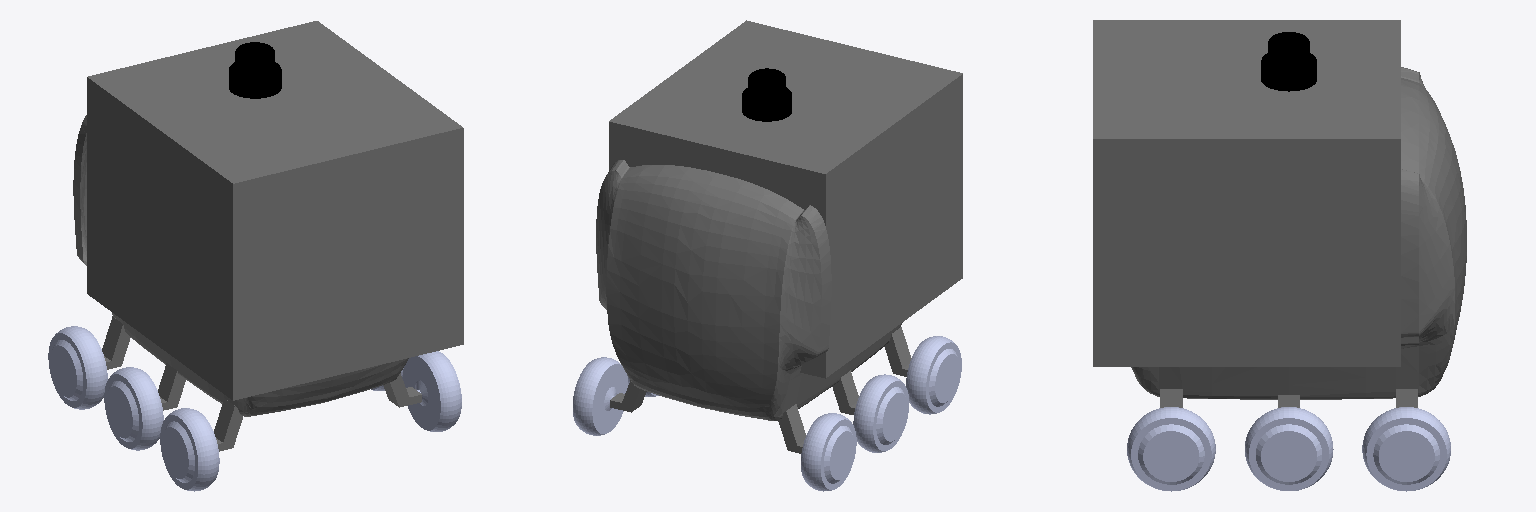
robot.urdf — robot_006:
<?xml version="1.0" ?>
<!-- =================================================================================== -->
<!-- |    This document was autogenerated by xacro from robot_006.xacro                | -->
<!-- |    EDITING THIS FILE BY HAND IS NOT RECOMMENDED                                 | -->
<!-- =================================================================================== -->
<!-- This URDF was automatically created by SolidWorks to URDF Exporter! Originally created by [author] ([email redacted]) 
     Commit Version: 1.6.0-4-g7f85cfe  Build Version: 1.6.7995.38578
     For more information, please see http://wiki.ros.org/sw_urdf_exporter -->
<robot name="robot_006">
  <gazebo>
    <plugin filename="libgazebo_ros_control.so" name="gazebo_ros_control">
      <robotNamespace>robot_006</robotNamespace>
      <robotSimType>gazebo_ros_control/DefaultRobotHWSim</robotSimType>
    </plugin>
  </gazebo>
  <!-- hokuyo -->
  <gazebo reference="lidar_link">
    <sensor name="head_lidar_sensor" type="ray">
      <pose>0 0 0 0 0 0</pose>
      <visualize>true</visualize>
      <update_rate>40</update_rate>
      <ray>
        <scan>
          <horizontal>
            <samples>720</samples>
            <resolution>1</resolution>
            <min_angle>-3.14</min_angle>
            <max_angle>3.14</max_angle>
          </horizontal>
        </scan>
        <range>
          <min>0.10</min>
          <max>30.0</max>
          <resolution>0.01</resolution>
        </range>
        <noise>
          <type>gaussian</type>
          <!-- Noise parameters based on published spec for Hokuyo laser
               achieving "+-30mm" accuracy at range < 10m.  A mean of 0.0m and
               stddev of 0.01m will put 99.7% of samples within 0.03m of the true
               reading. -->
          <mean>0.0</mean>
          <stddev>0.01</stddev>
        </noise>
      </ray>
      <plugin filename="libgazebo_ros_laser.so" name="gazebo_ros_head_lidar_controller">
        <topicName>/robot_006/laser/scan</topicName>
        <frameName>lidar_link</frameName>
      </plugin>
    </sensor>
  </gazebo>
  <gazebo reference="base_link">
    <material>Gazebo/Blue</material>
  </gazebo>
  <gazebo reference="lidar_link">
    <material>Gazebo/Black</material>
  </gazebo>
  <gazebo reference="Left_wheel_03_link">
    <material>Gazebo/Black</material>
  </gazebo>
  <gazebo reference="Right_wheel_03_link">
    <material>Gazebo/Black</material>
  </gazebo>
  <gazebo>
    <plugin filename="libgazebo_ros_skid_steer_drive.so" name="skid_steer_drive">
      <updateRate>500</updateRate>
      <leftFrontJoint>Left_wheel_03_link</leftFrontJoint>
      <rightFrontJoint>Right_wheel_03_link</rightFrontJoint>
      <leftRearJoint>Left_wheel_01_link</leftRearJoint>
      <rightRearJoint>Right_wheel_01_link</rightRearJoint>
      <wheelSeparation>1.25</wheelSeparation>
      <wheelDiameter>0.3</wheelDiameter>
      <torque>20</torque>
      <commandTopic>cmd_demo</commandTopic>
      <odometryTopic>odom_demo</odometryTopic>
      <odometryFrame>odom_demo</odometryFrame>
      <broadcastTF>true</broadcastTF>
    </plugin>
  </gazebo>
  <link name="base_link">
    <inertial>
      <origin rpy="0 0 0" xyz="0.0028535 0.34369 0.067012"/>
      <mass value="6.3834"/>
      <inertia ixx="0.34574" ixy="2.7545E-05" ixz="4.4178E-16" iyy="0.37646" iyz="6.8636E-16" izz="0.30569"/>
    </inertial>
    <visual>
      <origin rpy="0 0 0" xyz="0 0 0"/>
      <geometry>
        <mesh filename="package://robot_006/robot_006_description/meshes/base_link.STL"/>
      </geometry>
      <material name="black">
        <color rgba="0.49804 0.49804 0.49804 1"/>
        <texture filename="package://robot_006/robot_006_description/textures/black.jpg"/>
      </material>
    </visual>
    <collision>
      <origin rpy="0 0 0" xyz="0 0 0"/>
      <geometry>
        <mesh filename="package://robot_006/robot_006_description/meshes/base_link.STL"/>
      </geometry>
    </collision>
  </link>
  <link name="left_wheel_01_link">
    <inertial>
      <origin rpy="0 0 0" xyz="0.0810455771702411 -8.67361737988404E-18 0"/>
      <mass value="7.38632836745033"/>
      <inertia ixx="0.0208460115156416" ixy="-7.30031821441943E-19" ixz="1.40926829579469E-18" iyy="0.0121153656310422" iyz="-7.58941520739853E-19" izz="0.0121153656310422"/>
    </inertial>
    <visual>
      <origin rpy="0 0 0" xyz="0 0 0"/>
      <geometry>
        <mesh filename="package://robot_006/robot_006_description/meshes/left_wheel_01_link.STL"/>
      </geometry>
      <material name="">
        <color rgba="0.792156862745098 0.819607843137255 0.933333333333333 1"/>
      </material>
    </visual>
    <collision>
      <origin rpy="0 0 0" xyz="0 0 0"/>
      <geometry>
        <mesh filename="package://robot_006/robot_006_description/meshes/left_wheel_01_link.STL"/>
      </geometry>
    </collision>
  </link>
  <joint name="Left_wheel_01_link" type="continuous">
    <origin rpy="1.6176 0 3.1416" xyz="-0.18382 0.21 0"/>
    <parent link="base_link"/>
    <child link="left_wheel_01_link"/>
    <axis xyz="1 0 0"/>
  </joint>
  <link name="left_wheel_02_link">
    <inertial>
      <origin rpy="0 0 0" xyz="0.0810455771702411 2.87112417300684E-19 1.17130577147236E-17"/>
      <mass value="7.38632836745033"/>
      <inertia ixx="0.0208460115156416" ixy="-5.32200053630169E-19" ixz="1.69064860125389E-18" iyy="0.0121153656310422" iyz="2.16840434497101E-18" izz="0.0121153656310422"/>
    </inertial>
    <visual>
      <origin rpy="0 0 0" xyz="0 0 0"/>
      <geometry>
        <mesh filename="package://robot_006/robot_006_description/meshes/left_wheel_02_link.STL"/>
      </geometry>
      <material name="">
        <color rgba="0.792156862745098 0.819607843137255 0.933333333333333 1"/>
      </material>
    </visual>
    <collision>
      <origin rpy="0 0 0" xyz="0 0 0"/>
      <geometry>
        <mesh filename="package://robot_006/robot_006_description/meshes/left_wheel_02_link.STL"/>
      </geometry>
    </collision>
  </link>
  <joint name="Left_wheel_02_link" type="continuous">
    <origin rpy="2.4353 0 -3.1416" xyz="-0.18382 0 0"/>
    <parent link="base_link"/>
    <child link="left_wheel_02_link"/>
    <axis xyz="1 0 0"/>
  </joint>
  <link name="left_wheel_03_link">
    <inertial>
      <origin rpy="0 0 0" xyz="0.0810455771702411 0 -5.55111512312578E-17"/>
      <mass value="7.38632836745033"/>
      <inertia ixx="0.0208460115156416" ixy="1.42504187367709E-19" ixz="-2.9721660450084E-19" iyy="0.0121153656310422" iyz="0" izz="0.0121153656310422"/>
    </inertial>
    <visual>
      <origin rpy="0 0 0" xyz="0 0 0"/>
      <geometry>
        <mesh filename="package://robot_006/robot_006_description/meshes/left_wheel_03_link.STL"/>
      </geometry>
      <material name="">
        <color rgba="0.792156862745098 0.819607843137255 0.933333333333333 1"/>
      </material>
    </visual>
    <collision>
      <origin rpy="0 0 0" xyz="0 0 0"/>
      <geometry>
        <mesh filename="package://robot_006/robot_006_description/meshes/left_wheel_03_link.STL"/>
      </geometry>
    </collision>
  </link>
  <joint name="Left_wheel_03_link" type="continuous">
    <origin rpy="1.6982 0 3.1416" xyz="-0.18382 -0.21 0"/>
    <parent link="base_link"/>
    <child link="left_wheel_03_link"/>
    <axis xyz="1 0 0"/>
  </joint>
  <link name="right_wheel_01_link">
    <inertial>
      <origin rpy="0 0 0" xyz="0.0810455771702411 -1.33465102787837E-18 0"/>
      <mass value="7.38632836745033"/>
      <inertia ixx="0.0208460115156416" ixy="4.04941442896144E-19" ixz="5.05940785059499E-19" iyy="0.0121153656310422" iyz="-1.3156256345534E-18" izz="0.0121153656310422"/>
    </inertial>
    <visual>
      <origin rpy="0 0 0" xyz="0 0 0"/>
      <geometry>
        <mesh filename="package://robot_006/robot_006_description/meshes/right_wheel_01_link.STL"/>
      </geometry>
      <material name="">
        <color rgba="0.792156862745098 0.819607843137255 0.933333333333333 1"/>
      </material>
    </visual>
    <collision>
      <origin rpy="0 0 0" xyz="0 0 0"/>
      <geometry>
        <mesh filename="package://robot_006/robot_006_description/meshes/right_wheel_01_link.STL"/>
      </geometry>
    </collision>
  </link>
  <joint name="Right_wheel_01_link" type="continuous">
    <origin rpy="1.5708 0 0" xyz="0.18382 0.21 0"/>
    <parent link="base_link"/>
    <child link="right_wheel_01_link"/>
    <axis xyz="1 0 0"/>
  </joint>
  <link name="right_wheel_02_link">
    <inertial>
      <origin rpy="0 0 0" xyz="0.081045577170241 -1.33465102787837E-18 2.94364146830802E-19"/>
      <mass value="7.38632836745033"/>
      <inertia ixx="0.0208460115156416" ixy="4.04941442896144E-19" ixz="5.05940785059499E-19" iyy="0.0121153656310422" iyz="-1.3156256345534E-18" izz="0.0121153656310422"/>
    </inertial>
    <visual>
      <origin rpy="0 0 0" xyz="0 0 0"/>
      <geometry>
        <mesh filename="package://robot_006/robot_006_description/meshes/right_wheel_02_link.STL"/>
      </geometry>
      <material name="">
        <color rgba="0.792156862745098 0.819607843137255 0.933333333333333 1"/>
      </material>
    </visual>
    <collision>
      <origin rpy="0 0 0" xyz="0 0 0"/>
      <geometry>
        <mesh filename="package://robot_006/robot_006_description/meshes/right_wheel_02_link.STL"/>
      </geometry>
    </collision>
  </link>
  <joint name="Right_wheel_02_link" type="continuous">
    <origin rpy="1.5708 0 0" xyz="0.18382 0 0"/>
    <parent link="base_link"/>
    <child link="right_wheel_02_link"/>
    <axis xyz="1 0 0"/>
  </joint>
  <link name="right_wheel_03_link">
    <inertial>
      <origin rpy="0 0 0" xyz="0.0810455771702411 -2.77555756156289E-17 5.55111512312578E-17"/>
      <mass value="7.38632836745033"/>
      <inertia ixx="0.0208460115156416" ixy="2.044350574312E-19" ixz="-1.00448384628692E-18" iyy="0.0121153656310422" iyz="2.60208521396521E-18" izz="0.0121153656310422"/>
    </inertial>
    <visual>
      <origin rpy="0 0 0" xyz="0 0 0"/>
      <geometry>
        <mesh filename="package://robot_006/robot_006_description/meshes/right_wheel_03_link.STL"/>
      </geometry>
      <material name="">
        <color rgba="0.792156862745098 0.819607843137255 0.933333333333333 1"/>
      </material>
    </visual>
    <collision>
      <origin rpy="0 0 0" xyz="0 0 0"/>
      <geometry>
        <mesh filename="package://robot_006/robot_006_description/meshes/right_wheel_03_link.STL"/>
      </geometry>
    </collision>
  </link>
  <joint name="Right_wheel_03_link" type="continuous">
    <origin rpy="1.3303 0 0" xyz="0.18382 -0.21 0"/>
    <parent link="base_link"/>
    <child link="right_wheel_03_link"/>
    <axis xyz="1 0 0"/>
  </joint>
  <link name="lidar_link">
    <inertial>
      <origin rpy="0 0 0" xyz="5.13755296872079E-17 -1.20842733323598E-17 -0.639080780507335"/>
      <mass value="0.491430460551325"/>
      <inertia ixx="0.000499328268367785" ixy="-1.20370621524202E-35" ixz="-1.59325678180355E-20" iyy="0.000499328268367785" iyz="-2.69786365718604E-36" izz="0.000517286112813611"/>
    </inertial>
    <visual>
      <origin rpy="0 0 0" xyz="0 0 0"/>
      <geometry>
        <mesh filename="package://robot_006/robot_006_description/meshes/lidar_link.STL"/>
      </geometry>
      <material name="">
        <color rgba="0 0 0 1"/>
      </material>
    </visual>
    <collision>
      <origin rpy="0 0 0" xyz="0 0 0"/>
      <geometry>
        <mesh filename="package://robot_006/robot_006_description/meshes/lidar_link.STL"/>
      </geometry>
    </collision>
  </link>
  <joint name="Lidar_link" type="fixed">
    <origin rpy="3.1416 0 1.5708" xyz="0 0 0"/>
    <parent link="base_link"/>
    <child link="lidar_link"/>
    <axis xyz="0 0 1"/>
  </joint>
  <!--
    <transmission name="tran1">
    <type>transmission_interface/SimpleTransmission</type>
    <joint name="Right_wheel_03_link">
      <hardwareInterface>EffortJointInterface</hardwareInterface>
    </joint>
    <actuator name="motor1">
      <hardwareInterface>EffortJointInterface</hardwareInterface>
      <mechanicalReduction>1</mechanicalReduction>
    </actuator>
  </transmission>
  <transmission name="tran2">
    <type>transmission_interface/SimpleTransmission</type>
    <joint name="Right_wheel_01_link">
      <hardwareInterface>EffortJointInterface</hardwareInterface>
    </joint>
    <actuator name="motor2">
      <hardwareInterface>EffortJointInterface</hardwareInterface>
      <mechanicalReduction>1</mechanicalReduction>
    </actuator>
  </transmission>  
  <transmission name="tran3">
    <type>transmission_interface/SimpleTransmission</type>
    <joint name="Left_wheel_03_link">
      <hardwareInterface>EffortJointInterface</hardwareInterface>
    </joint>
    <actuator name="motor3">
      <hardwareInterface>EffortJointInterface</hardwareInterface>
      <mechanicalReduction>1</mechanicalReduction>
    </actuator>
  </transmission>
  <transmission name="tran4">
    <type>transmission_interface/SimpleTransmission</type>
    <joint name="Left_wheel_01_link">
      <hardwareInterface>EffortJointInterface</hardwareInterface>
    </joint>
    <actuator name="motor4">
      <hardwareInterface>EffortJointInterface</hardwareInterface>
      <mechanicalReduction>1</mechanicalReduction>
    </actuator>
  </transmission>
  -->
</robot>

--- Render facts (derived) ---
The picture shows the robot from 3 angles, left to right: view 1: azimuth 30°, elevation 25°; view 2: azimuth 150°, elevation 25°; view 3: azimuth 270°, elevation 25°; orthographic projection.
Robot: robot_006 — 8 links, 7 joints (6 continuous, 1 fixed); root link base_link; default pose: every joint at zero.
Visible links, largest first — view 1: base_link, left_wheel_03_link, left_wheel_02_link, left_wheel_01_link, right_wheel_03_link, lidar_link; view 2: base_link, left_wheel_01_link, left_wheel_03_link, left_wheel_02_link, right_wheel_01_link, lidar_link; view 3: base_link, right_wheel_01_link, right_wheel_03_link, right_wheel_02_link, lidar_link.
Boxes of the visible links, x1,y1,x2,y2 form: base_link: [73, 21, 463, 451]; left_wheel_03_link: [160, 408, 219, 491]; left_wheel_02_link: [104, 367, 163, 450]; left_wheel_01_link: [48, 326, 107, 409]; right_wheel_03_link: [403, 351, 461, 431]; lidar_link: [229, 42, 281, 98]; base_link: [596, 20, 962, 453]; left_wheel_01_link: [801, 413, 856, 491]; left_wheel_03_link: [906, 336, 961, 414]; left_wheel_02_link: [853, 374, 908, 452]; right_wheel_01_link: [573, 357, 627, 435]; lidar_link: [742, 68, 791, 121]; base_link: [1093, 20, 1466, 407]; right_wheel_01_link: [1362, 407, 1450, 491]; right_wheel_03_link: [1127, 407, 1215, 491]; right_wheel_02_link: [1245, 407, 1333, 490]; lidar_link: [1261, 32, 1316, 91].
Bounding box of the posed robot: 0.589 × 0.6679 × 0.7643 m (x, y, z).
Meshes: 8 distinct files referenced, 8 mesh visuals loaded (8 binary STL).
